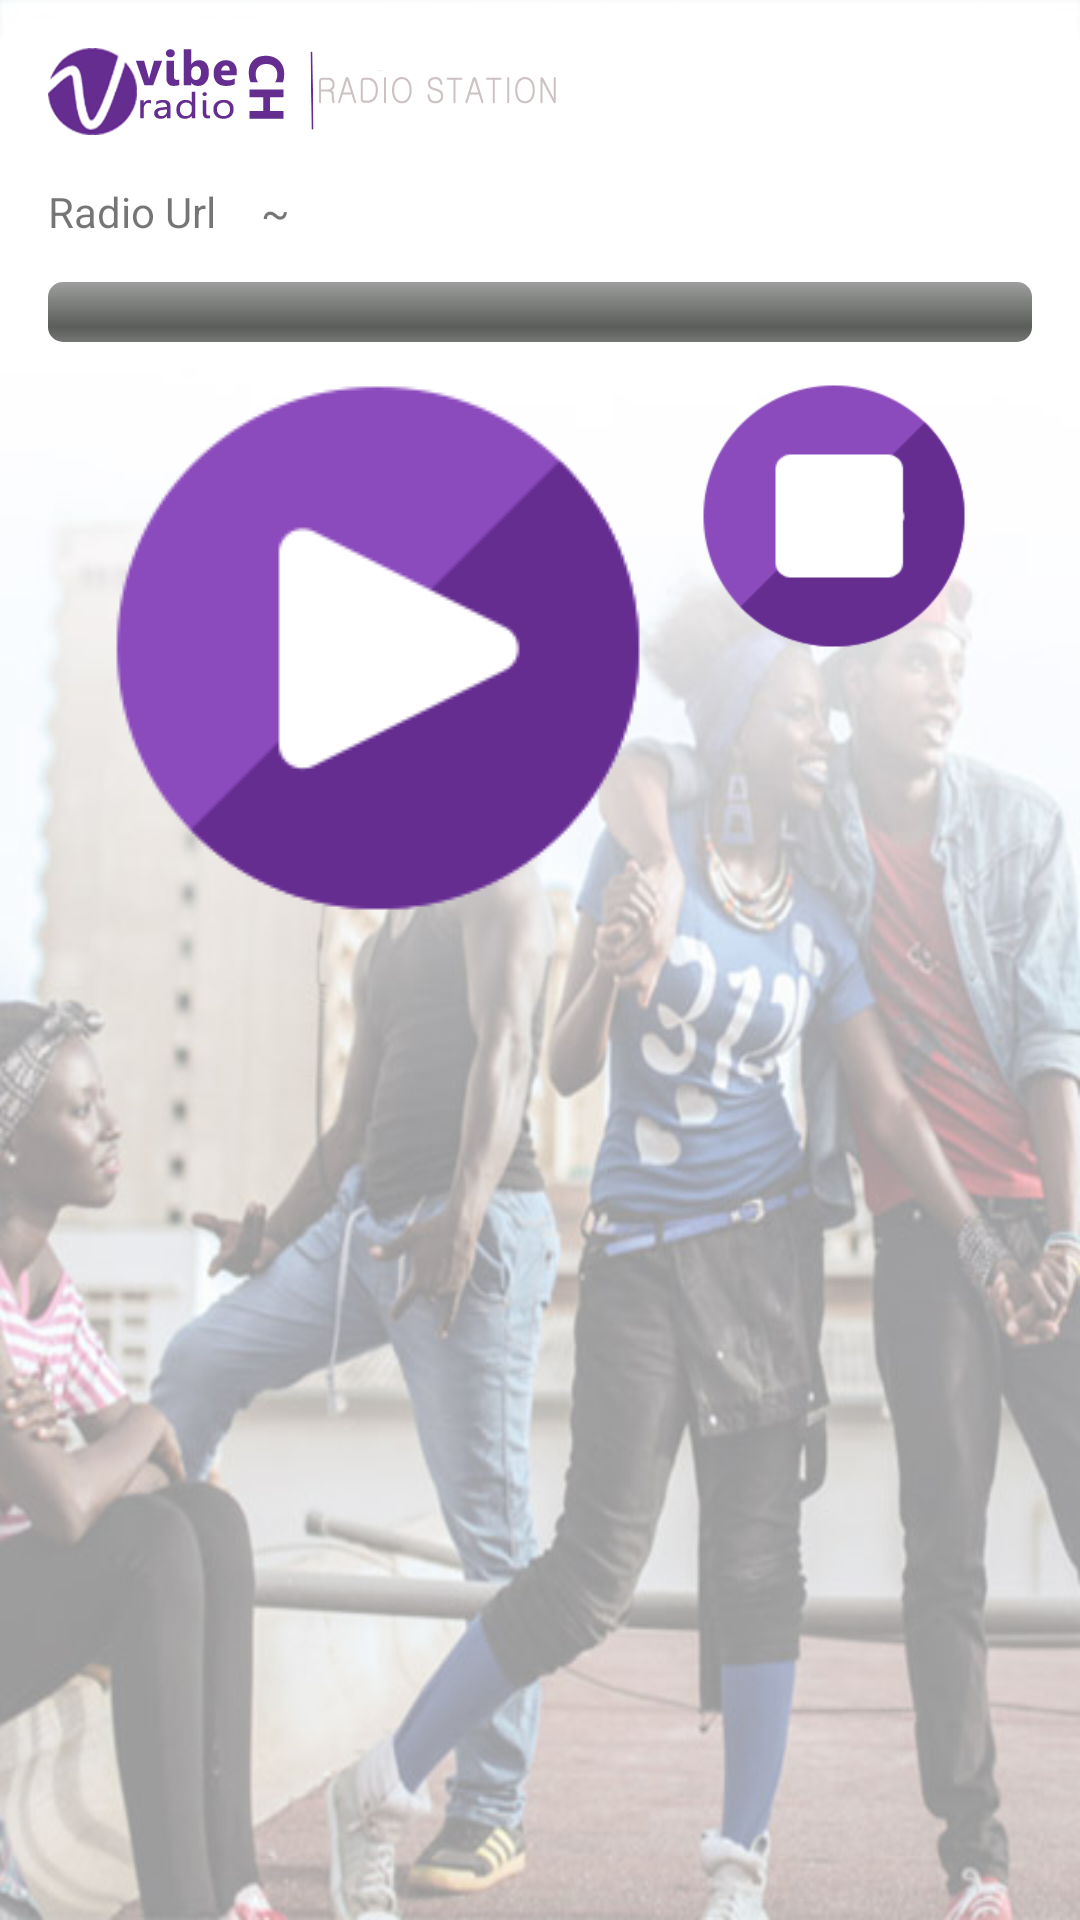

Icons on this 1080w x 1920h Android screen, each with its box as (x1, y1, x2, y2):
stop live: (702, 385, 966, 648)
